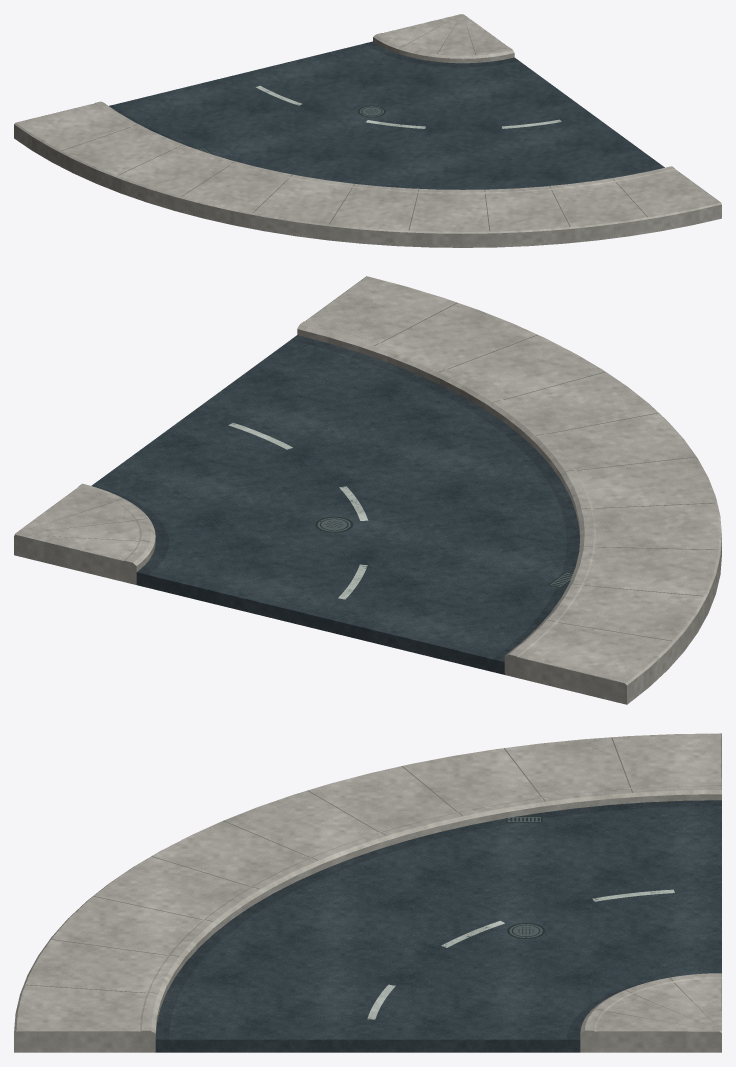
The model's file is RoadBend90.glb.
3 views of the same model, one above another, from view 1: azimuth 30°, elevation 25°; view 2: azimuth 150°, elevation 25°; view 3: azimuth 270°, elevation 25° (orthographic). The views are drawn at different scales.
Parts seen in each view (by area): view 1: SM_RoadBend90-col, SM_RoadBend90_Details; view 2: SM_RoadBend90-col, SM_RoadBend90_Details; view 3: SM_RoadBend90-col, SM_RoadBend90_Details.
Part boxes in pixels (x1,y1,x2,y2): SM_RoadBend90-col: [14, 14, 721, 247]; SM_RoadBend90_Details: [16, 23, 720, 231]; SM_RoadBend90-col: [14, 276, 721, 704]; SM_RoadBend90_Details: [26, 276, 717, 682]; SM_RoadBend90-col: [14, 733, 721, 1052]; SM_RoadBend90_Details: [17, 733, 721, 1039].
Bounding box in the file's own units: 12 × 0.4025 × 12.
7 materials, 4 textured.
